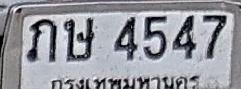4: (172, 14, 196, 59), (114, 16, 137, 60)
5: (143, 15, 167, 59)
7: (202, 14, 226, 59)
A32: (27, 18, 57, 62)
A39: (64, 17, 94, 61)
